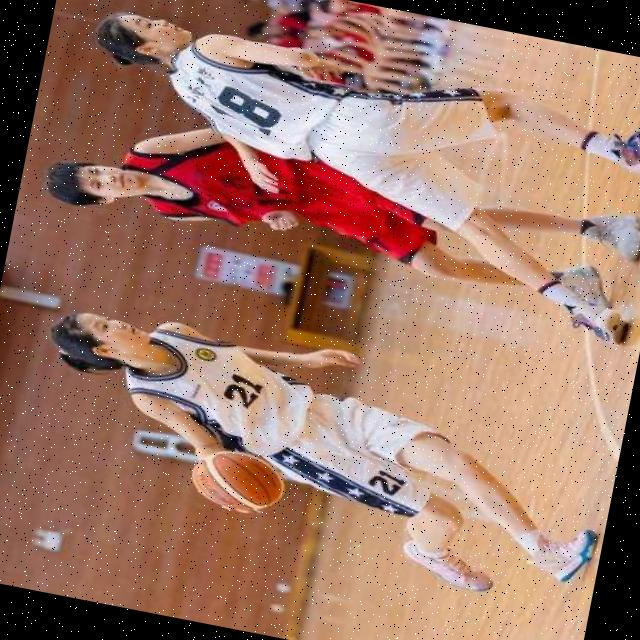ball: (188, 444, 290, 517)
